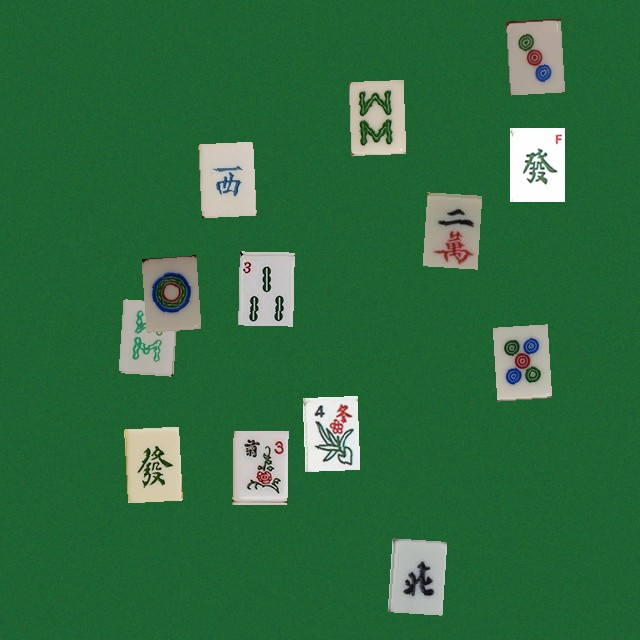tile: (232, 430, 287, 504), (118, 299, 173, 373), (198, 141, 253, 215), (505, 18, 560, 92), (238, 251, 293, 325), (124, 426, 179, 500), (492, 324, 547, 398), (509, 127, 564, 201), (348, 79, 403, 153), (141, 255, 196, 329), (387, 538, 442, 612), (422, 192, 477, 266), (302, 395, 357, 469)
